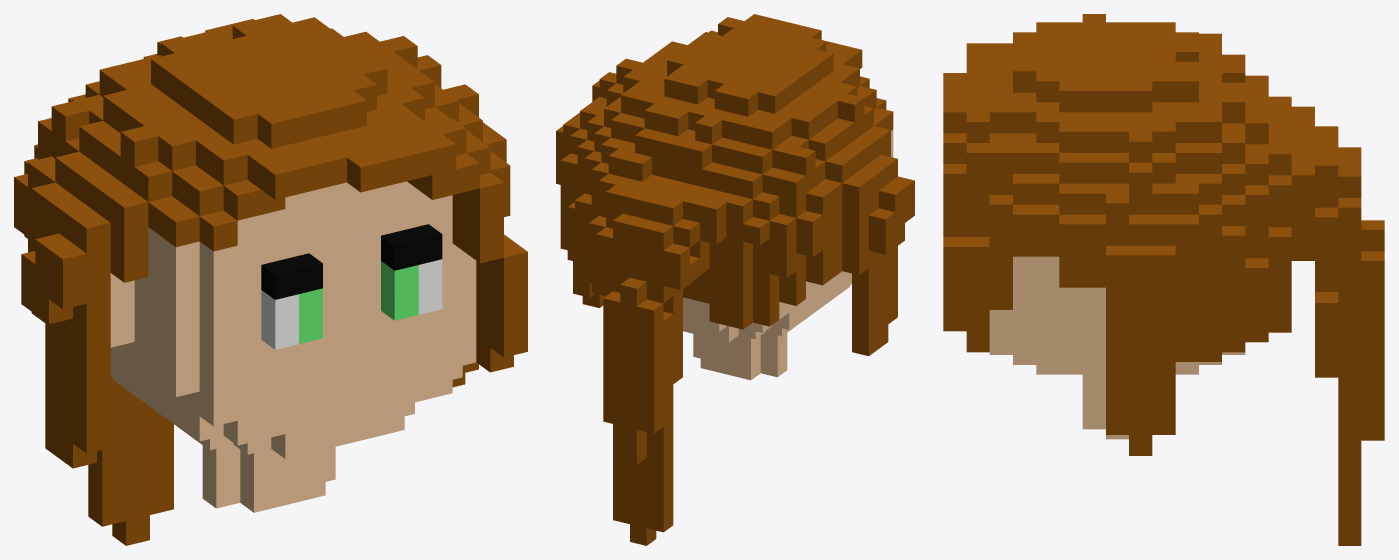
Rendered from Head.obj.
3 views of the same model, side by side, from view 1: azimuth 30°, elevation 25°; view 2: azimuth 150°, elevation 25°; view 3: azimuth 270°, elevation 25° (orthographic). The views are drawn at different scales.
Size of the model in its own units: 1.9 by 2.3 by 1.9.
Materials: 1 (1 with a texture image).
